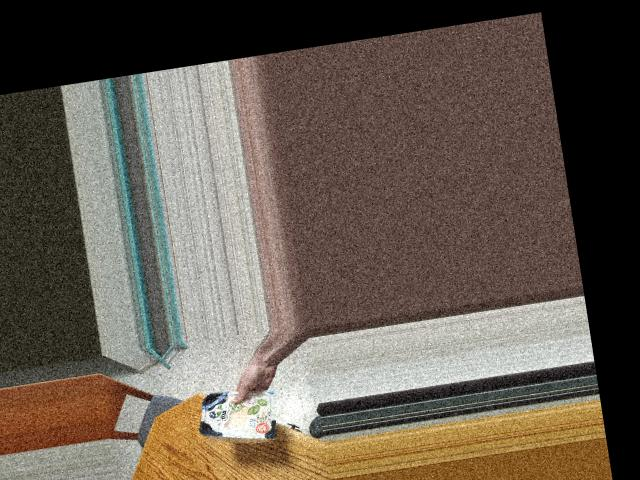cheese: (201, 378, 267, 448)
